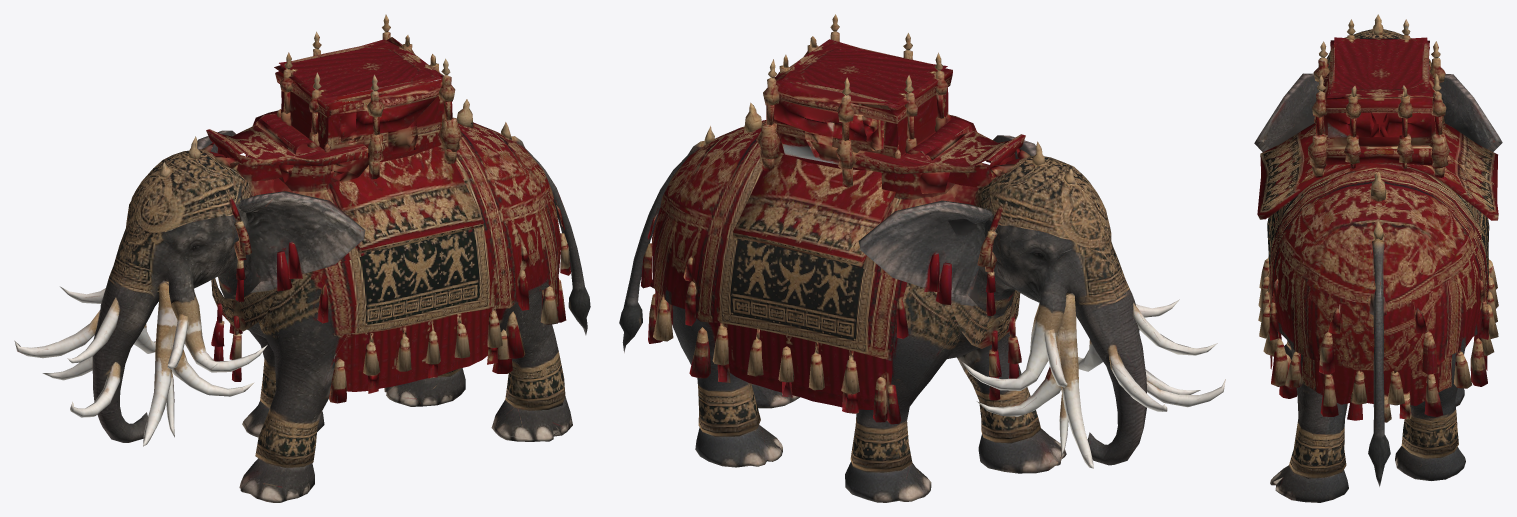
File: voi_chin_nga_original.fbx
The picture shows the model from 3 angles, left to right: view 1: azimuth 30°, elevation 25°; view 2: azimuth 150°, elevation 25°; view 3: azimuth 270°, elevation 25°; orthographic projection. The views are drawn at different scales.
Parts seen in each view (by area): view 1: Mesh_0; view 2: Mesh_0; view 3: Mesh_0.
Part boxes in pixels (x1,y1,x2,y2): Mesh_0: (14, 14, 590, 502); Mesh_0: (619, 14, 1225, 502); Mesh_0: (1254, 14, 1502, 502).
Bounding box in the file's own units: 100 × 68.01 × 40.87.
1 material, 1 textured.
